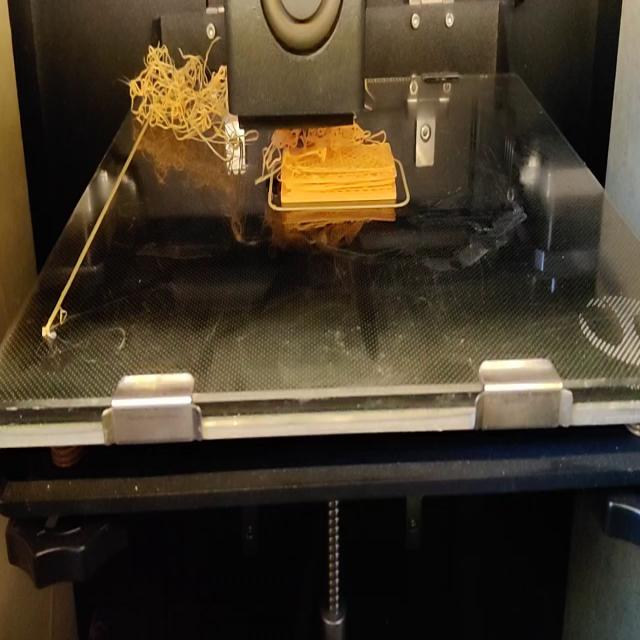spaghetti: (125, 34, 228, 162), (260, 124, 364, 172), (224, 129, 254, 158)
